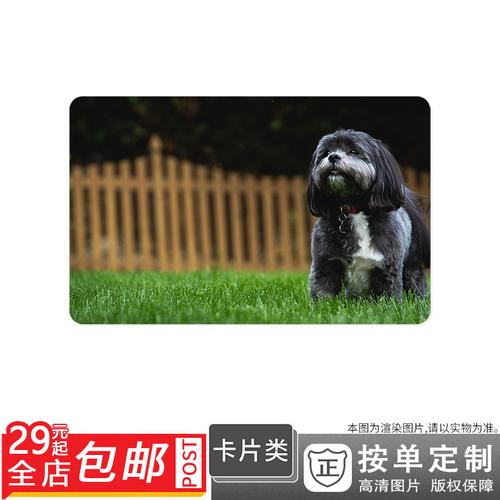dog: (295, 111, 397, 201)
